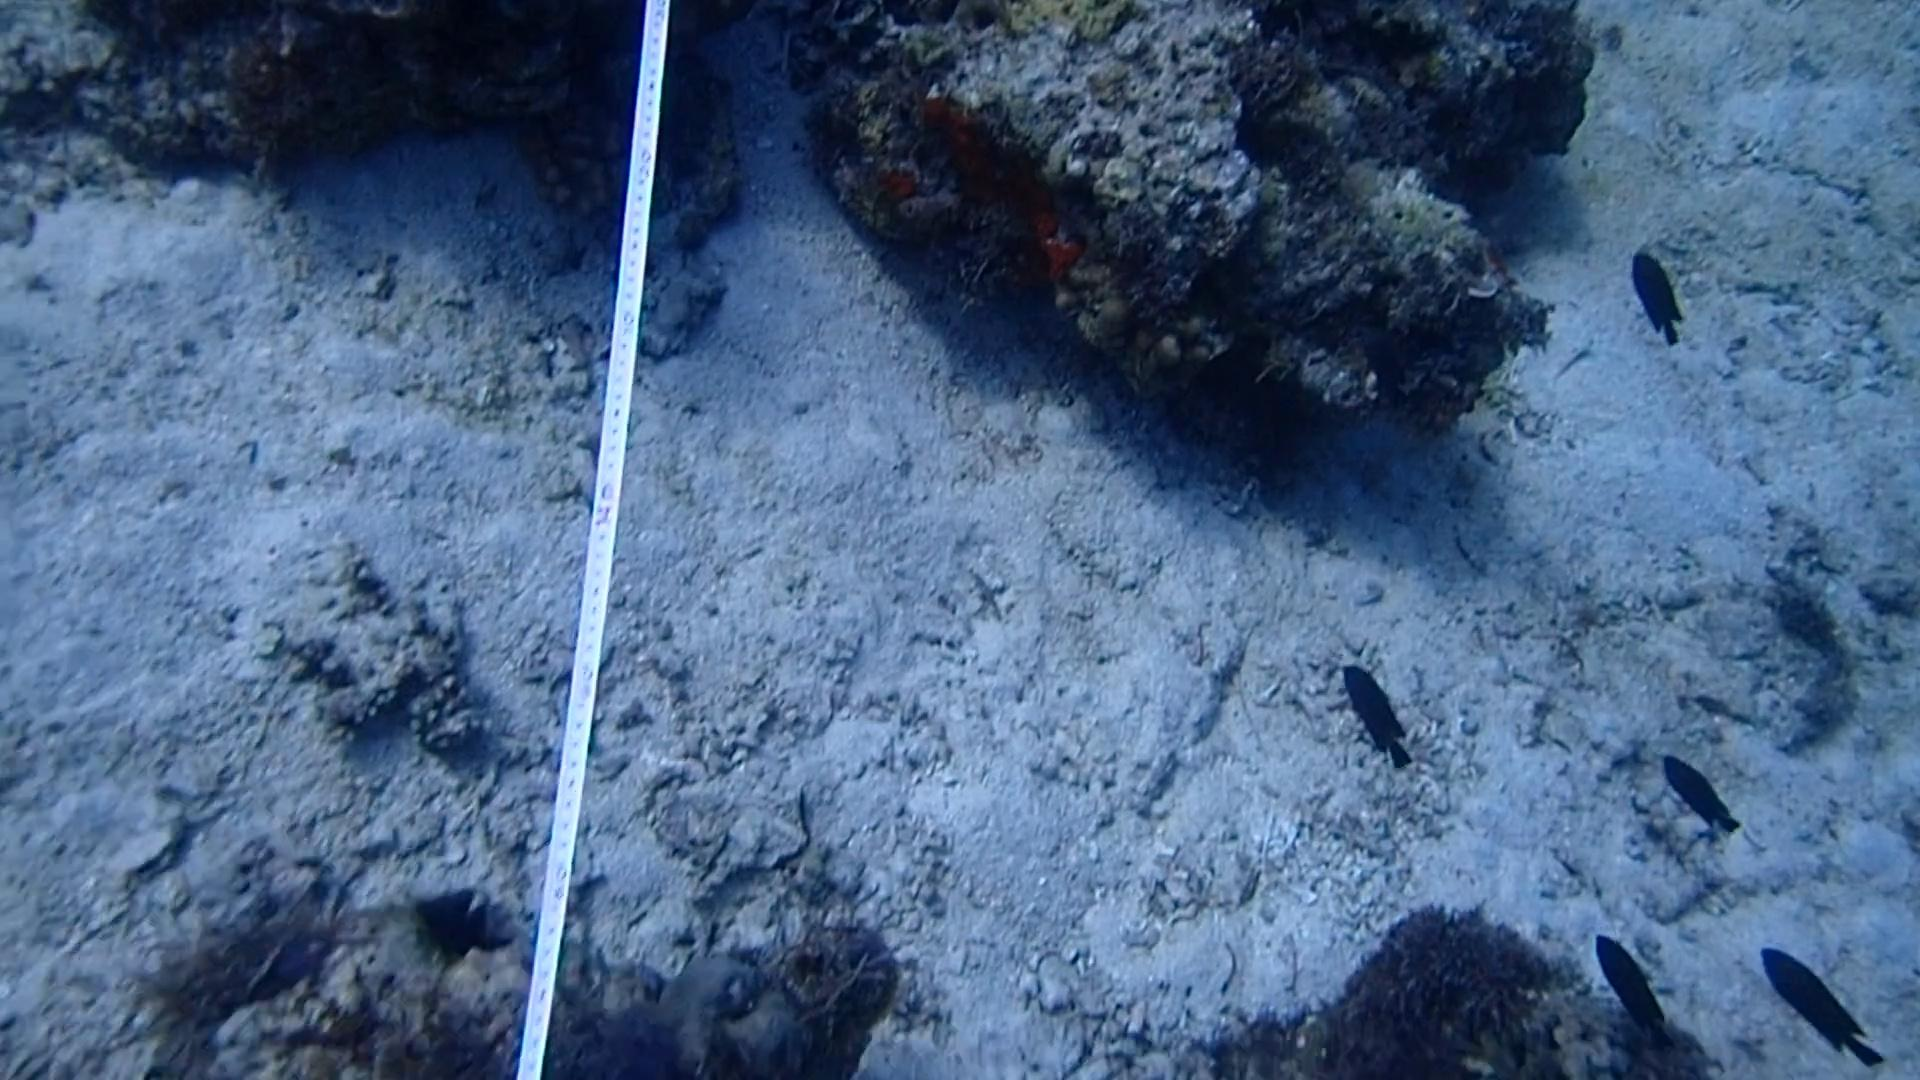Dark Fish: (1737, 940, 1900, 1072), (1633, 740, 1756, 841), (1328, 651, 1424, 781), (1585, 927, 1684, 1052), (1613, 233, 1693, 359)
